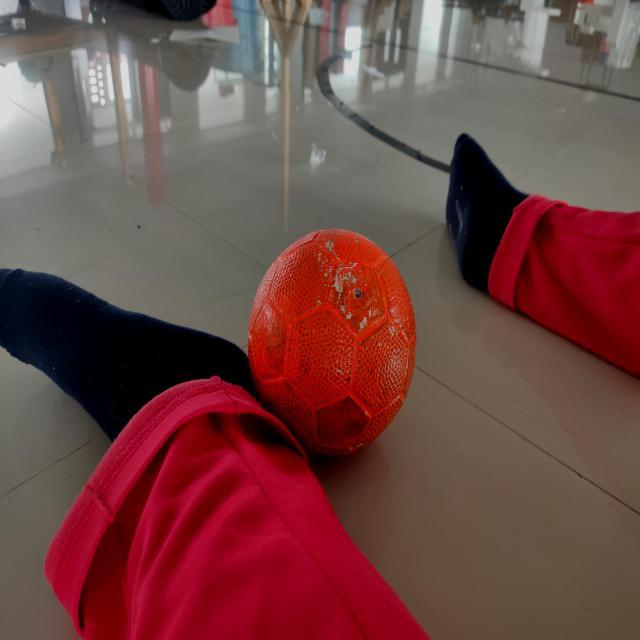bola: (245, 220, 422, 475)
